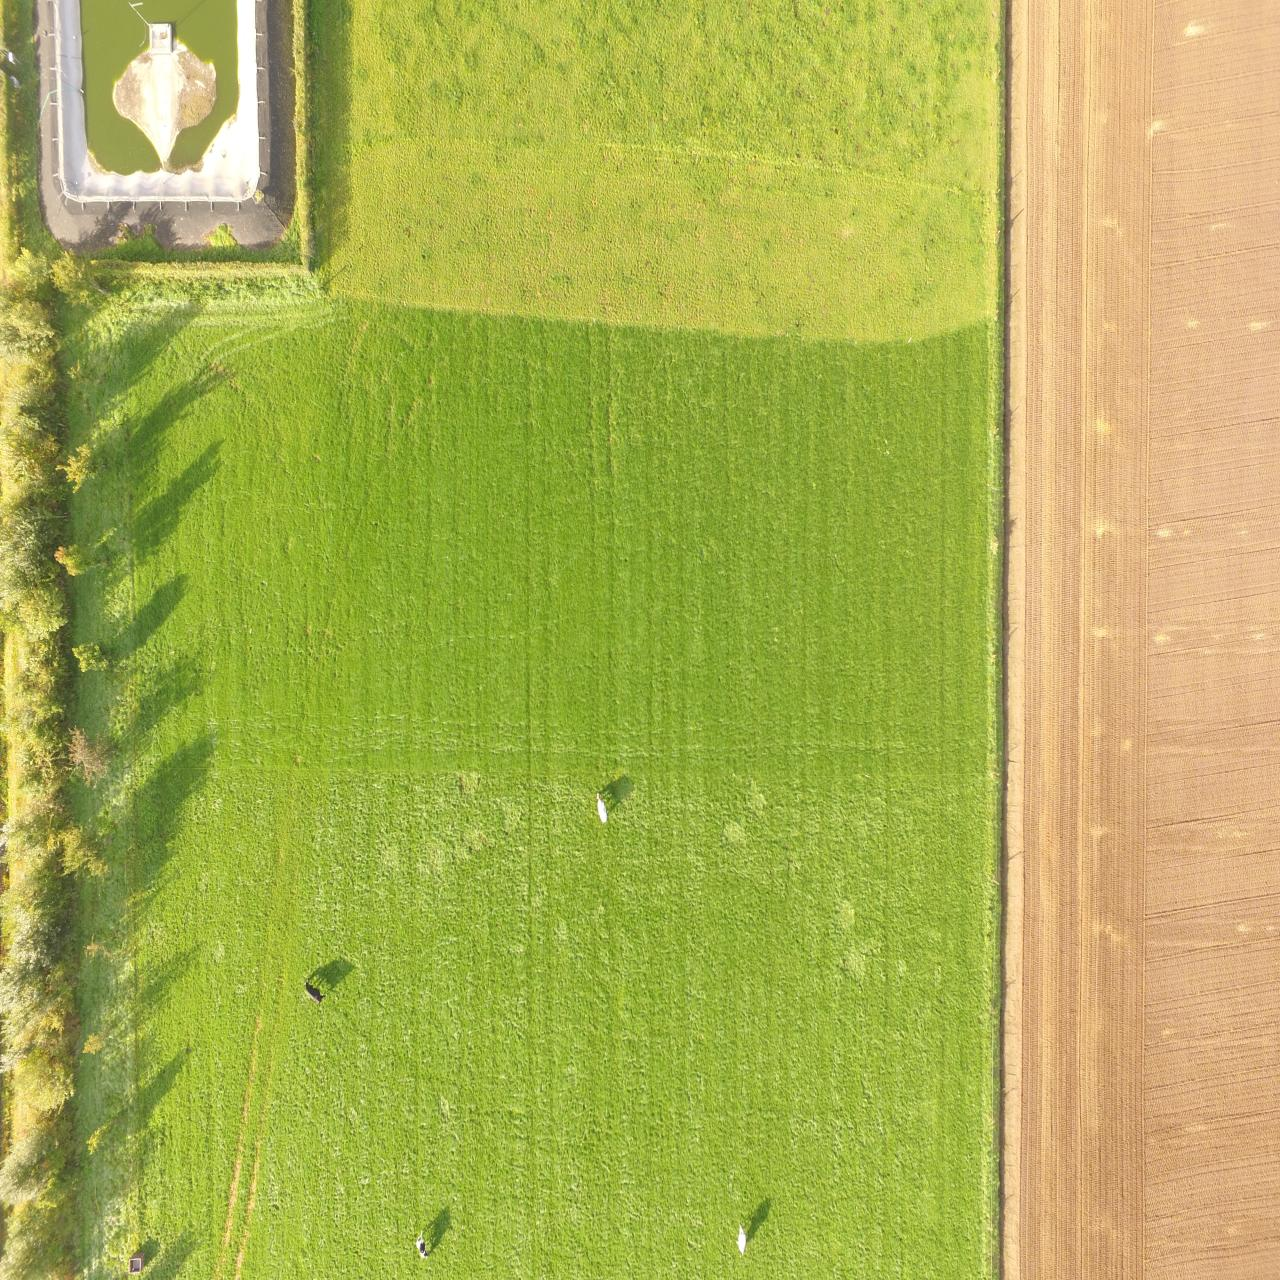cow: (302, 976, 328, 1008), (592, 788, 610, 825), (414, 1226, 431, 1262), (734, 1220, 748, 1257)
